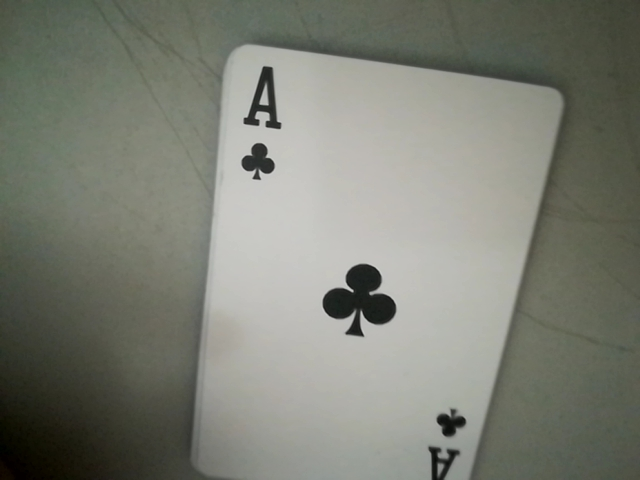mh a: (224, 53, 290, 191), (424, 400, 477, 480)
